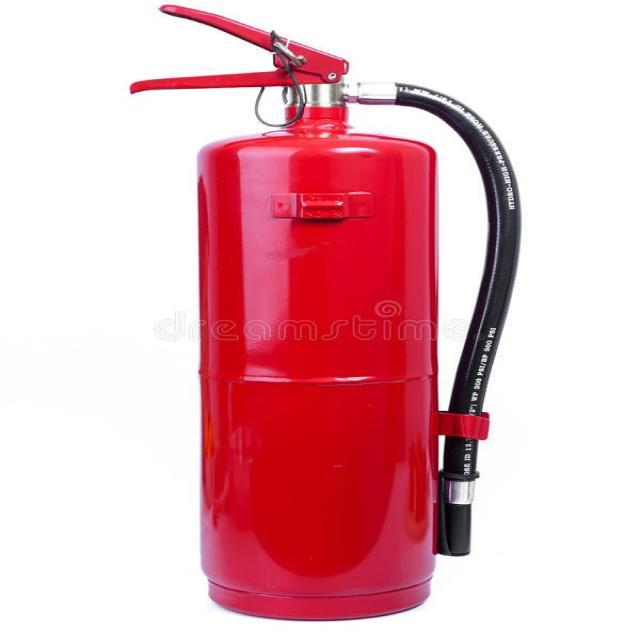fire_extinguisher: (118, 0, 537, 626)
